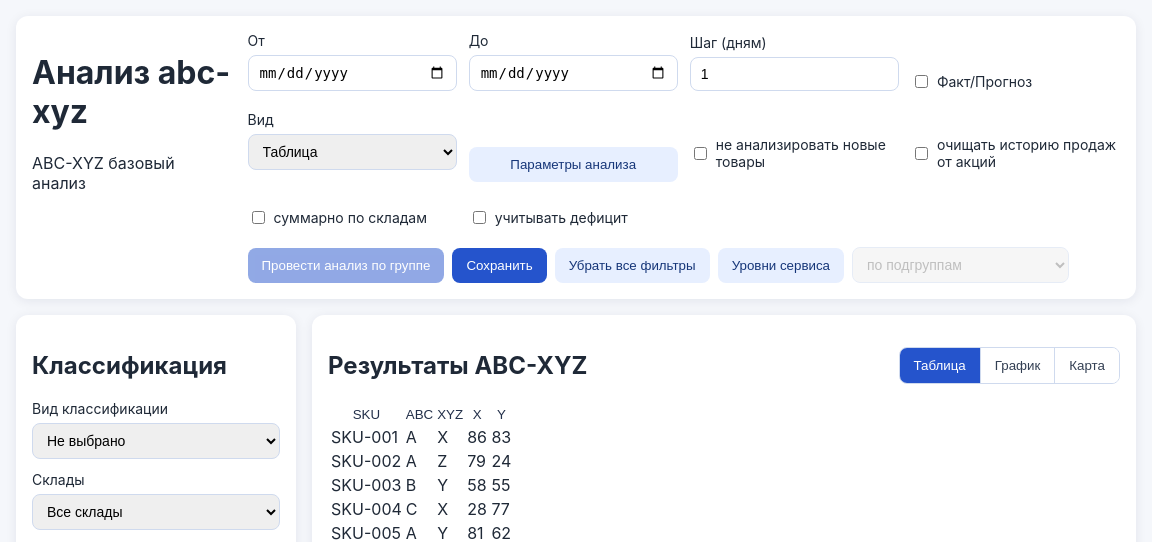
Scenario: AnalysisPage smoke › does not send request when modal changes are cancelled
This screenshot has width=1152, height=542.
Click the button "Уровни сервиса". click: {"x": 781, "y": 266}
box: [718,248,844,283]
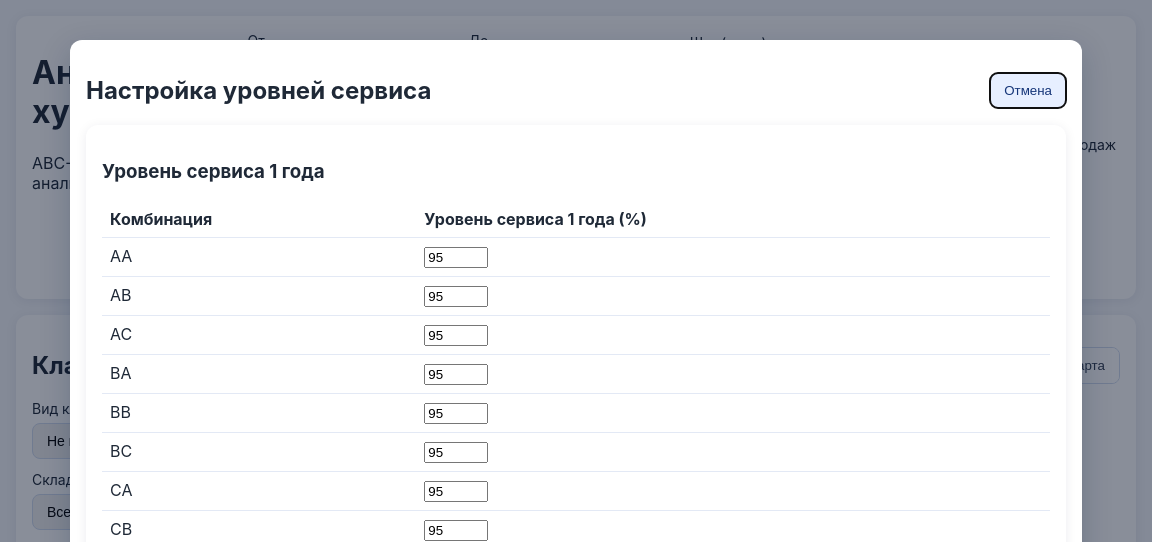
Replace the text in the number field named "Уровень сервиса AA" with "77". click: {"x": 456, "y": 258}
box: [424,247,488,268]
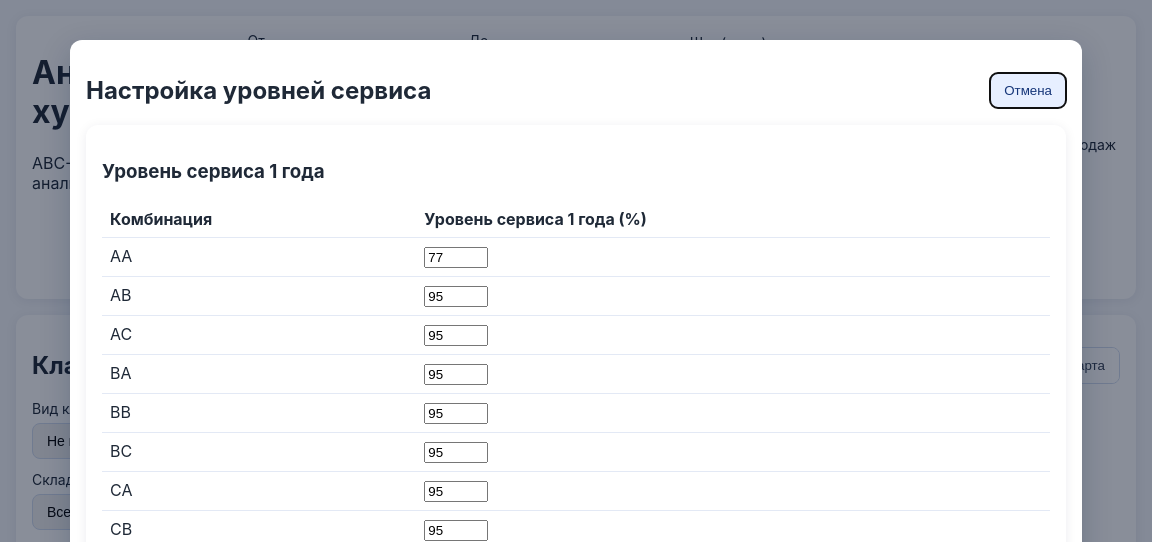
Click the button "Отмена". click: {"x": 1028, "y": 90}
box: [990,73,1066,108]
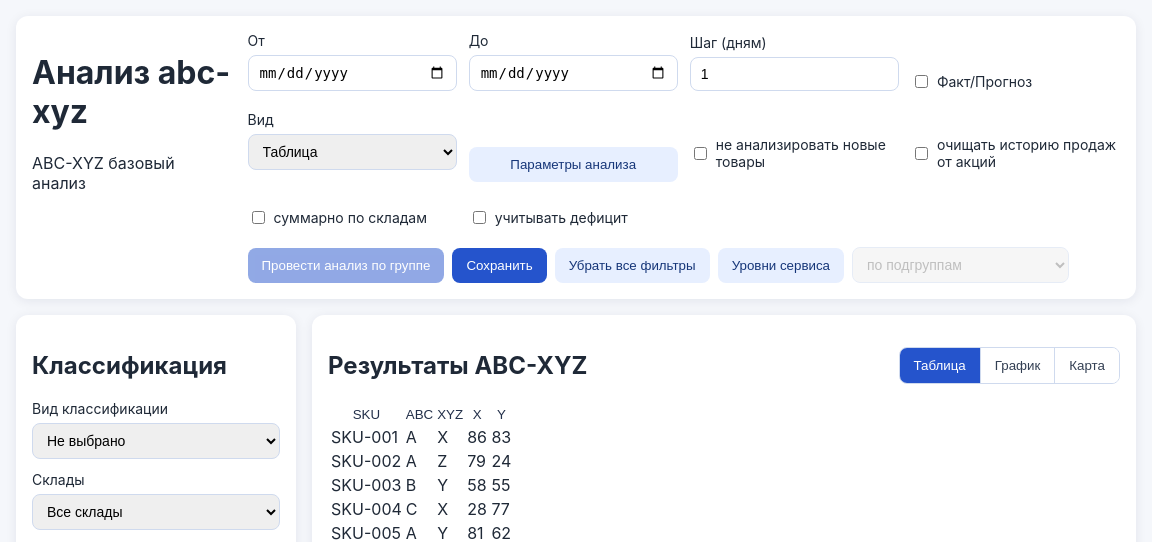
Expected: the heading "Настройка уровней сервиса" is gone
Click the button "Уровни сервиса". click: {"x": 781, "y": 266}
box: [718,248,844,283]
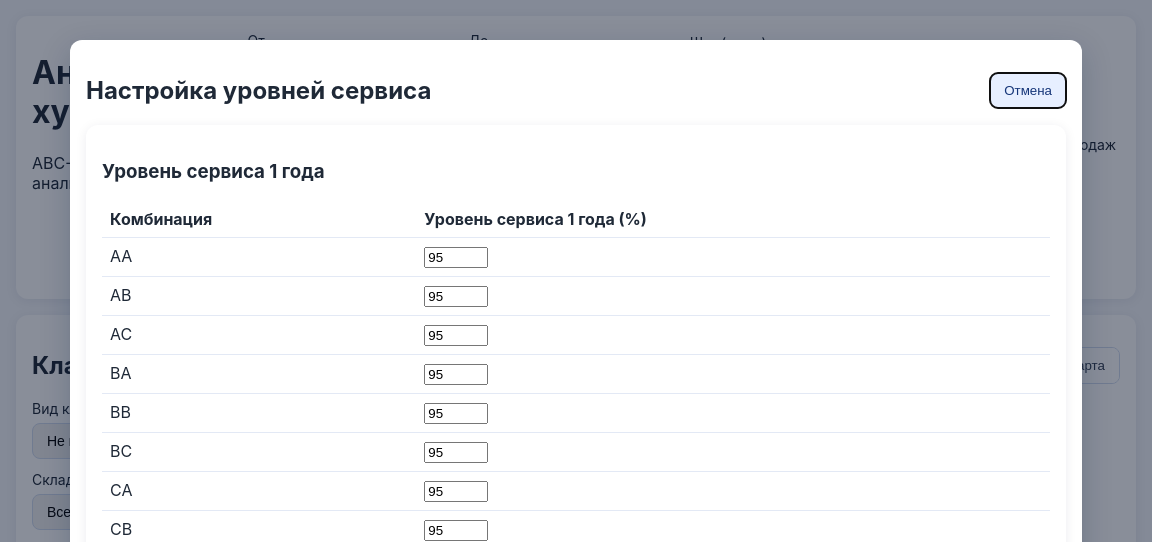
Expected: the number field named "Уровень сервиса AA" holds "95", [424,247,488,268]
